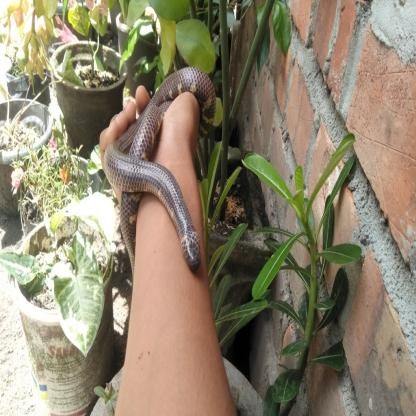Snake: (102, 62, 218, 266)
